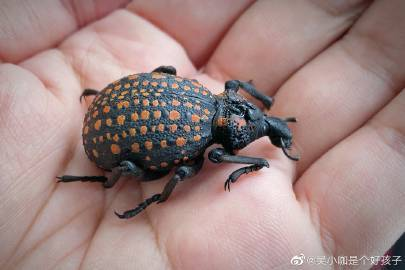Curculionidae: (54, 64, 300, 219)
